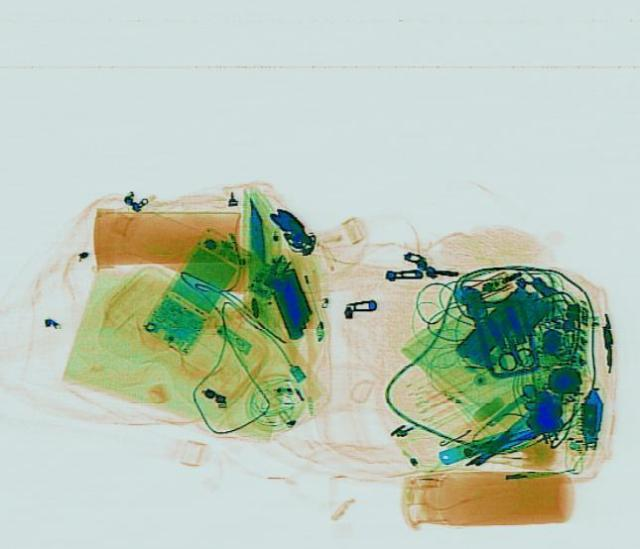Scissors: (484, 320, 536, 372)
